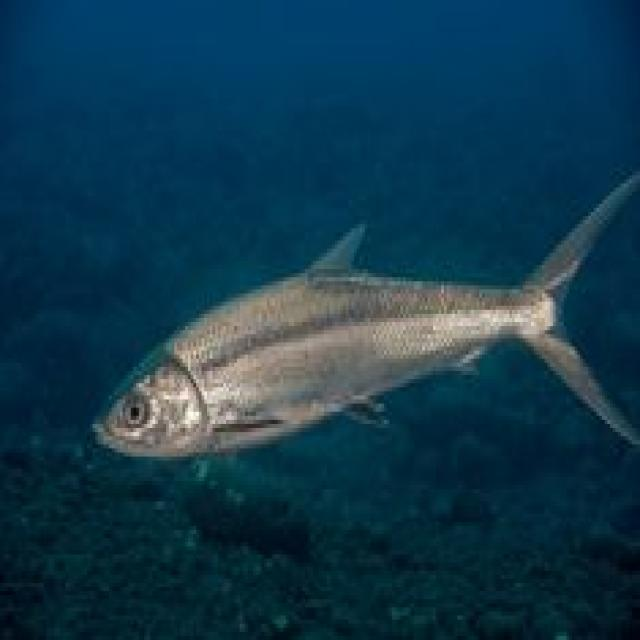Bangus: (62, 132, 640, 528)
